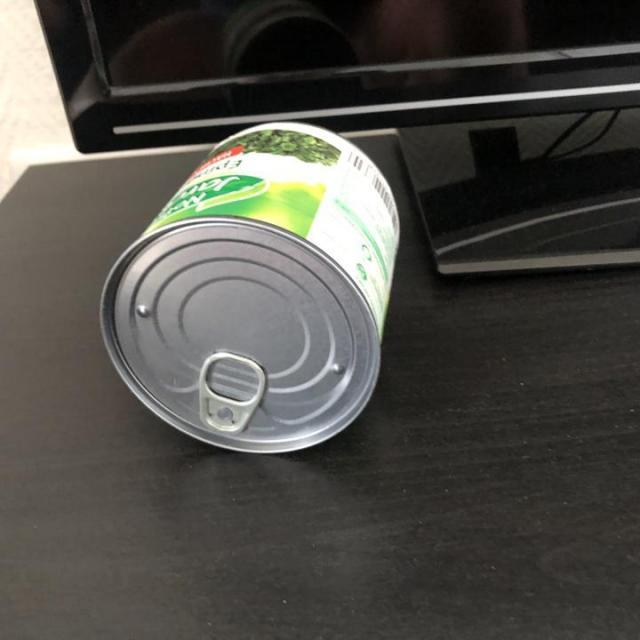metal-can: (96, 120, 406, 458)
